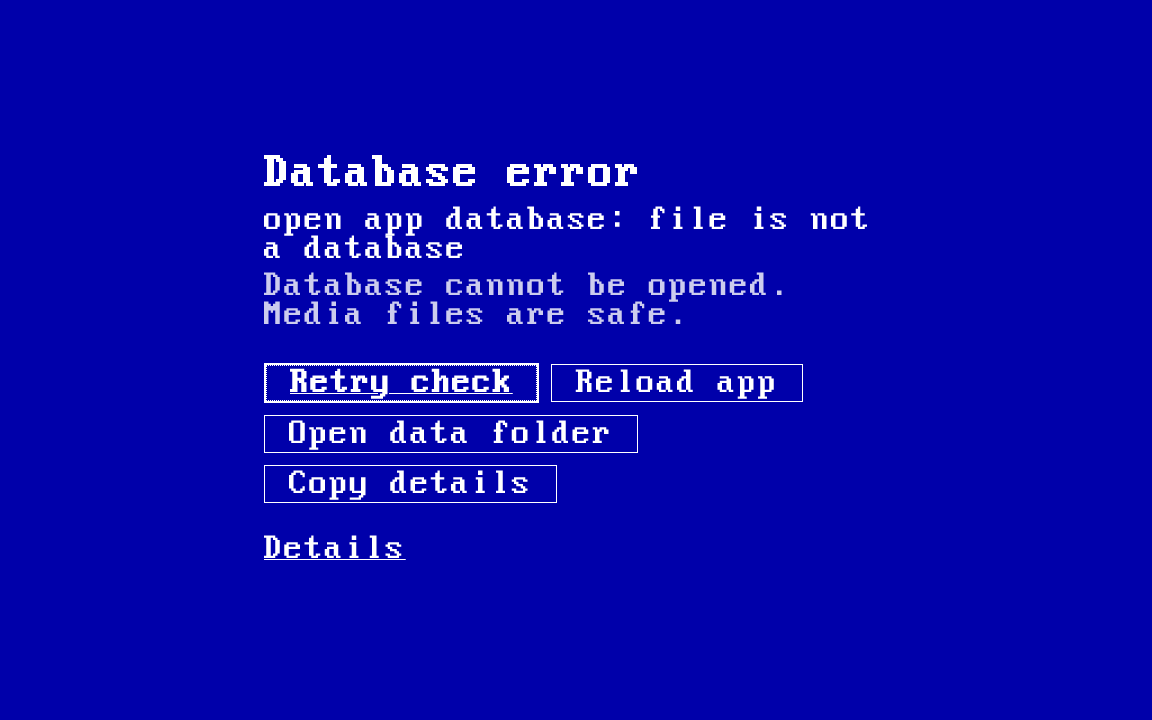
Scenario: DbScreen › reveals details and copies them
Click the button "Details": (335, 548) [264, 534, 888, 562]
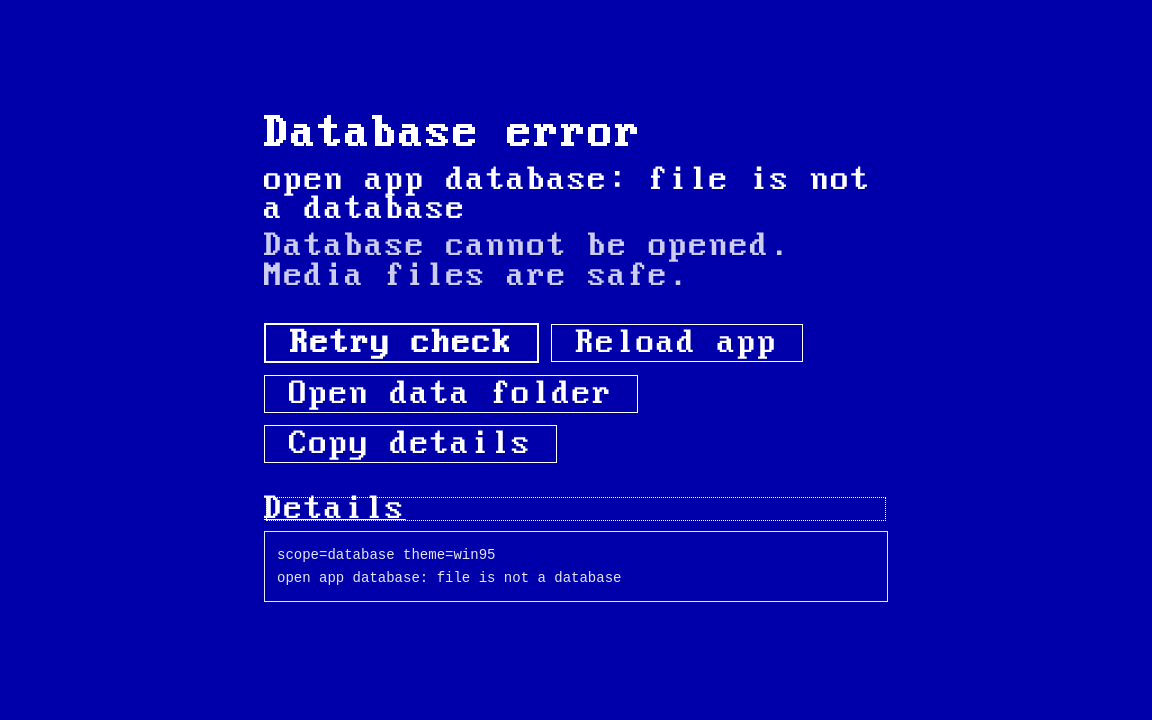
Expected: the text "scope=database" is shown, [277, 547, 495, 563]
Click the button "Copy details": (410, 444) [264, 425, 557, 463]
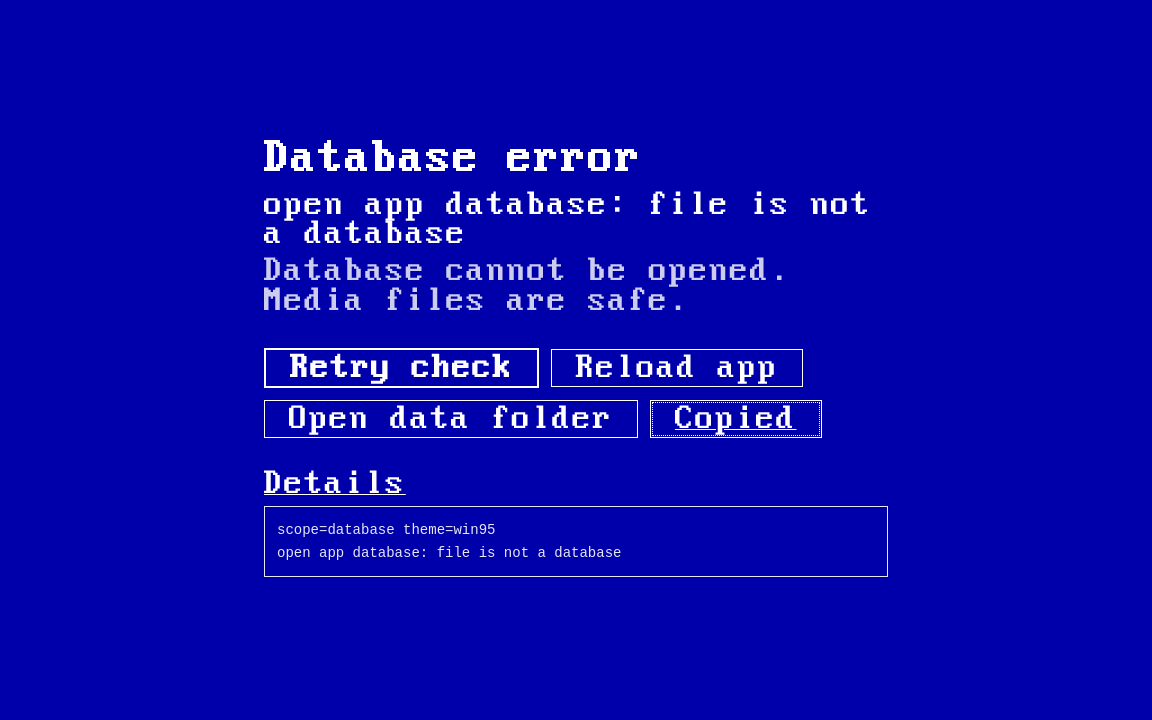
Expected: the button "Copied" is shown, [650, 400, 822, 438]
